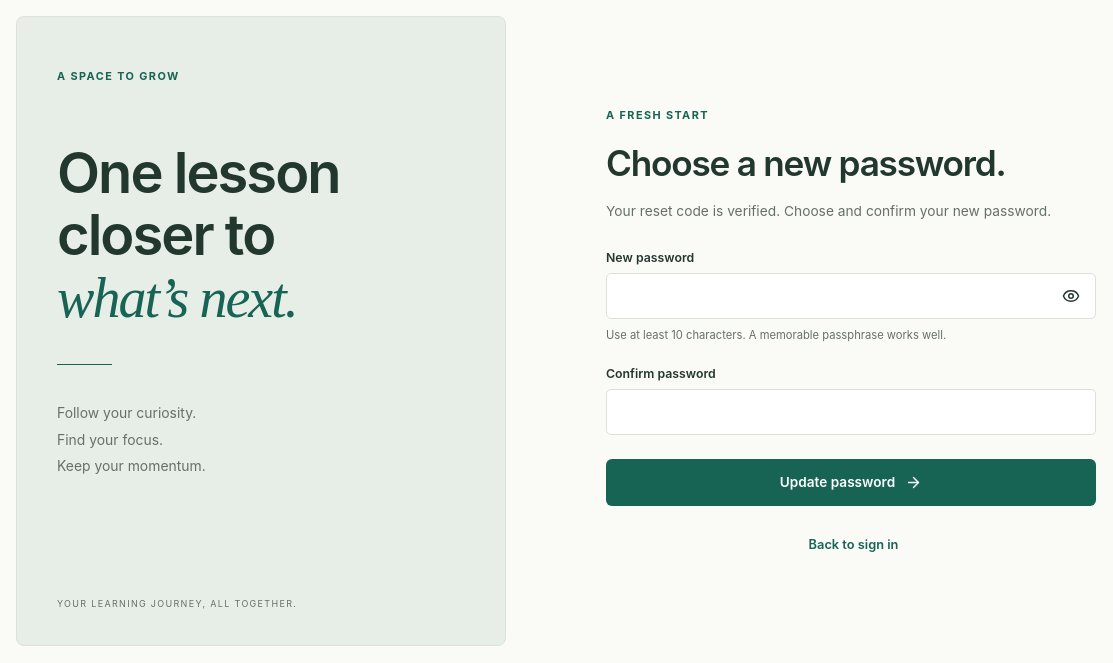
Scenario: authentication flow boundaries › authorized reset shows only new and confirm password, checks mismatch, then clears authorization and returns to login
The image size is (1113, 663).
Check: the field labelled "Email address" is not shown
Type "new-long-password" into the password field labelled "New password".
click(851, 296); type("new-long-password")  # box [606,273,1096,319]
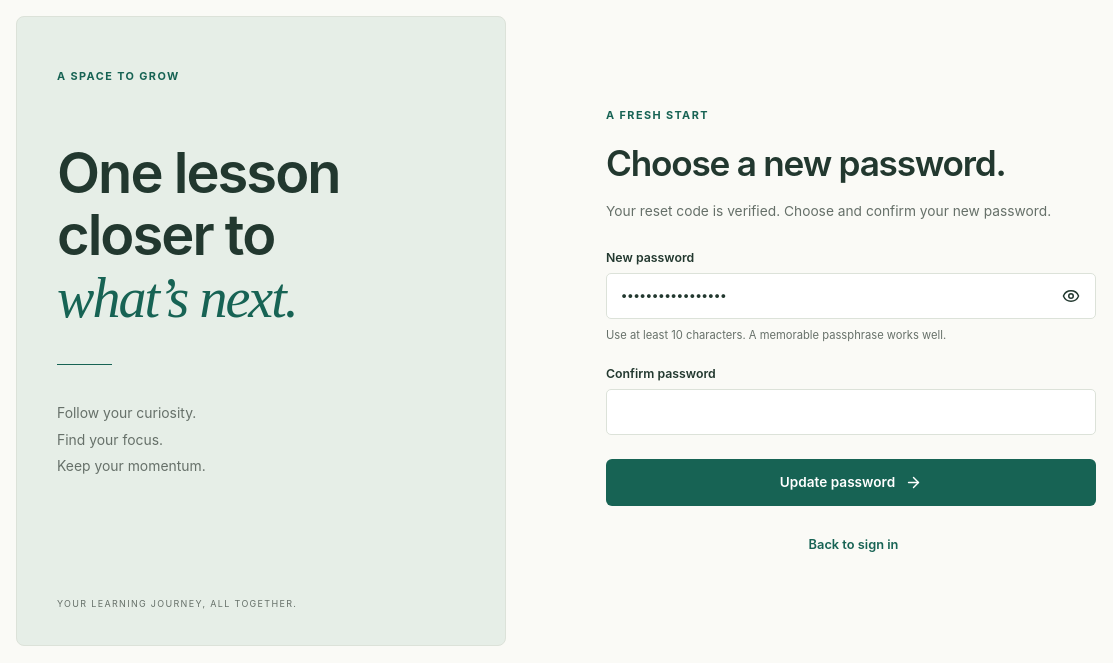
Type "mismatched-password" into the password field labelled "Confirm password".
click(851, 412); type("mismatched-password")  # box [606,389,1096,435]
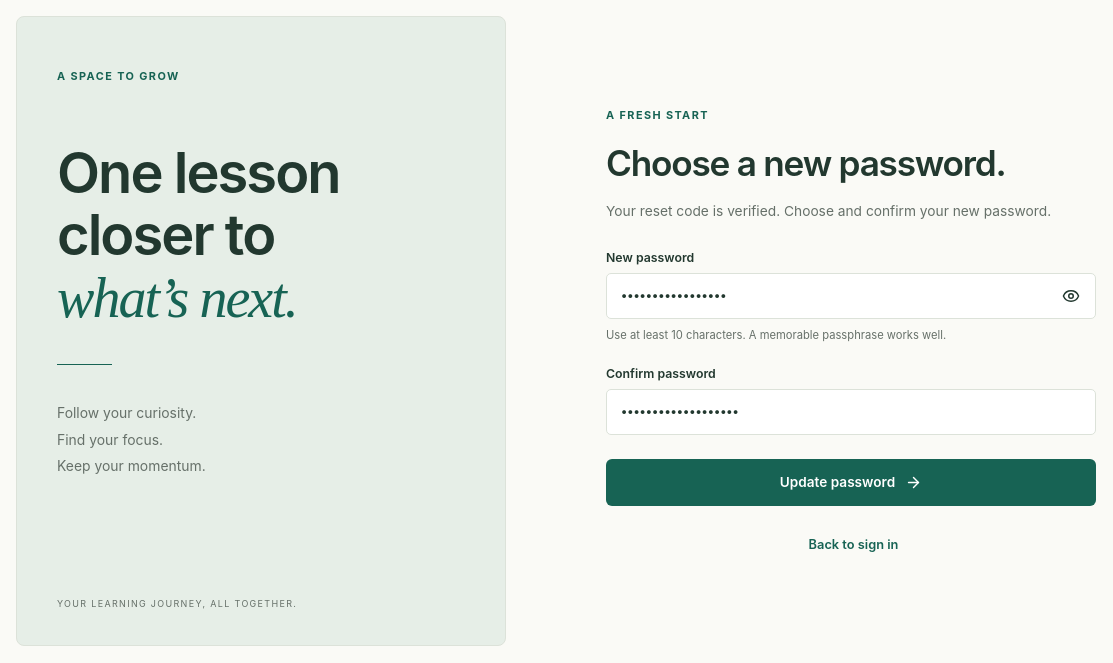
Click the button "Update password".
click(851, 483)  # box [606,459,1096,506]
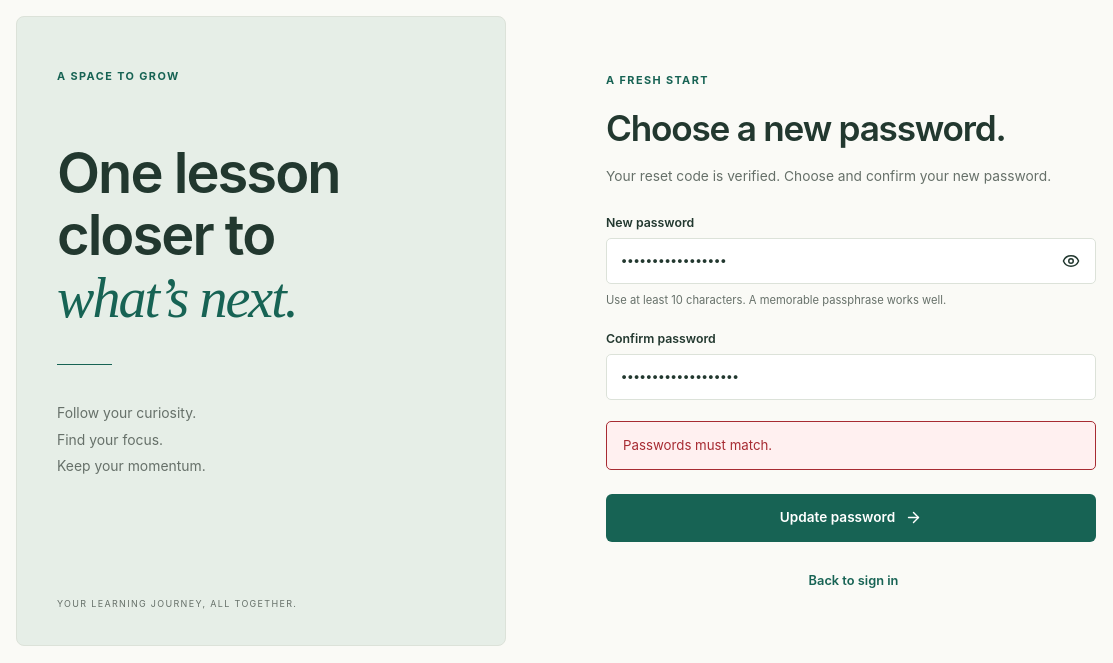
Check: the message shows "Passwords must match", box [623,437,772,453]
Type "new-long-password" into the password field labelled "Confirm password".
click(851, 377); type("new-long-password")  # box [606,354,1096,400]
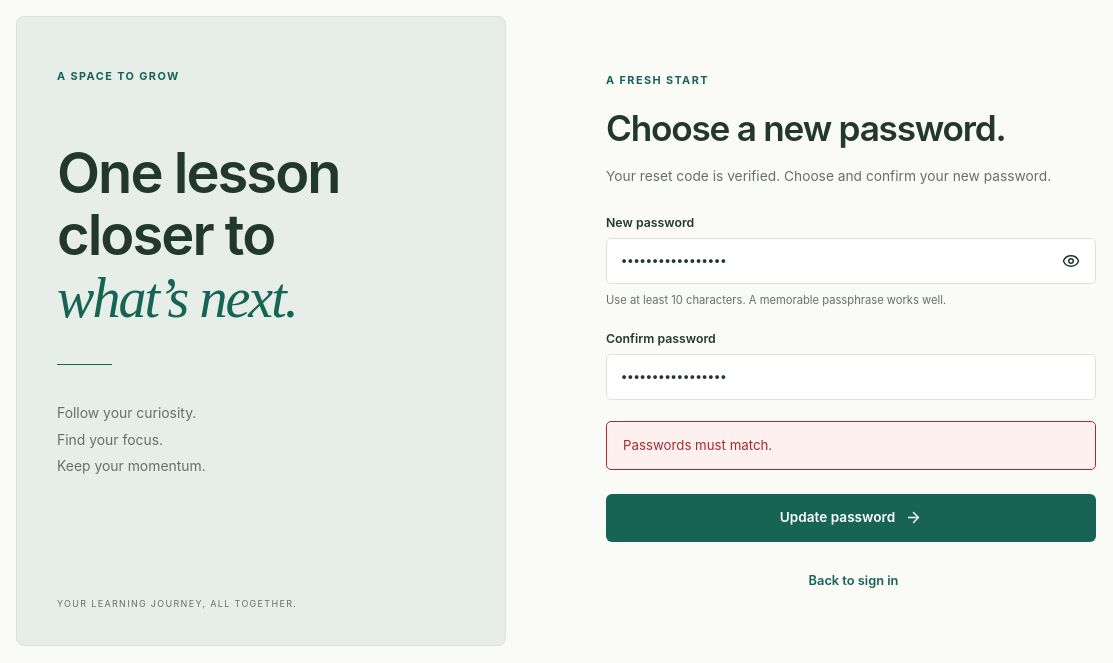
Click the button "Update password".
click(851, 518)  # box [606,494,1096,542]
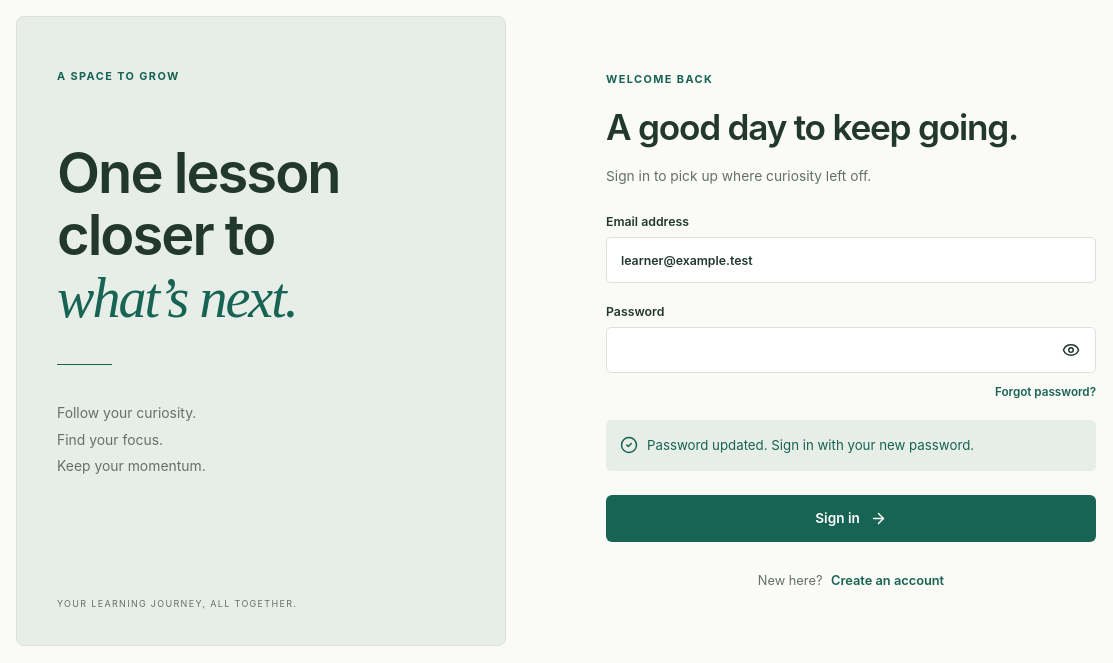
Check: the text "Password updated. Sign in with your new password." is shown, box [606,420,1096,471]
Check: the button "Sign in" is shown, box [606,495,1096,542]
